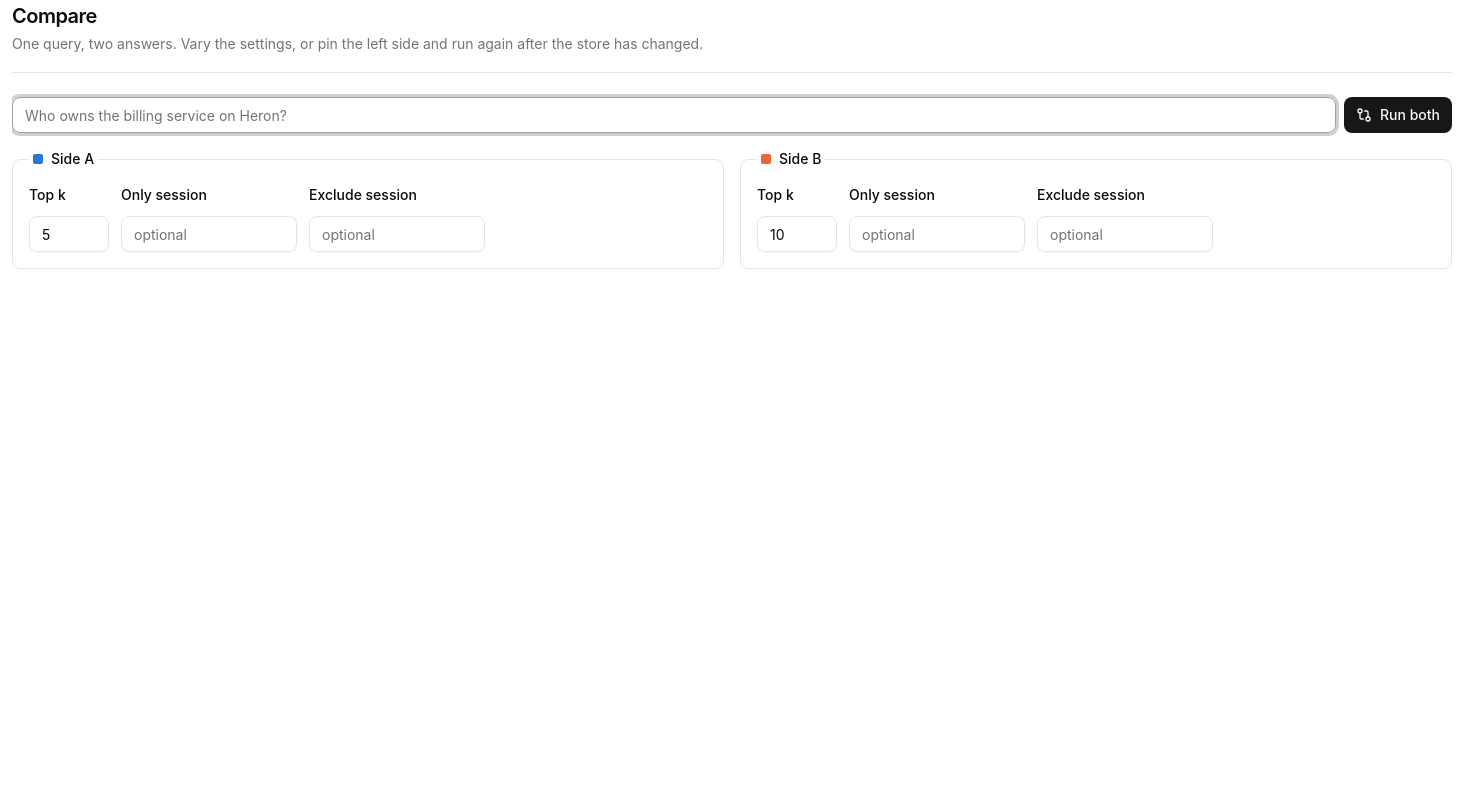
Scenario: ComparePage › runs the query on both sides and diffs the evidence sets
Type "who owns what?" into the field named "Query" at (674, 115), box [12,97,1336,133]
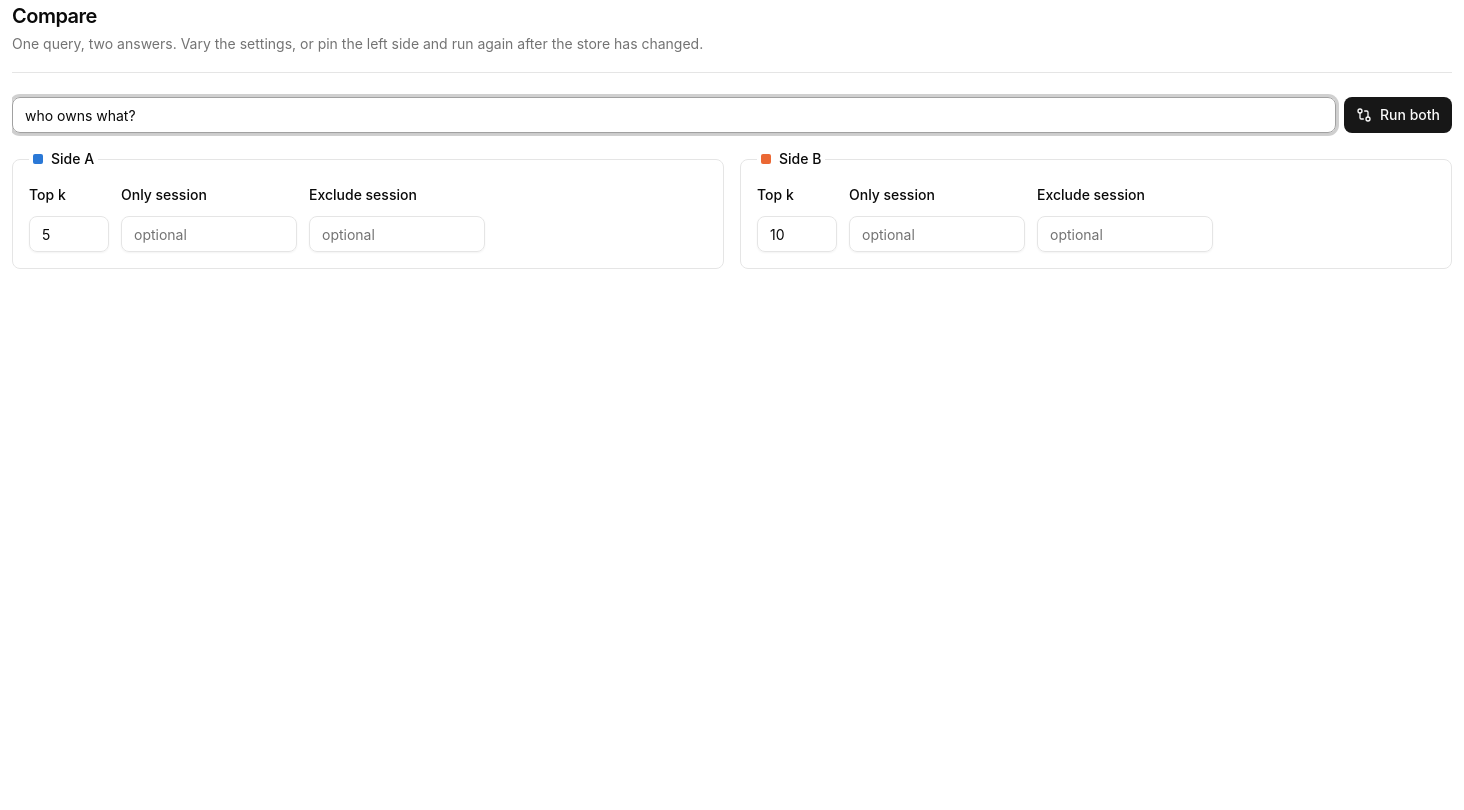
Click the button "Run both" at (1398, 115), box [1344,97,1452,133]
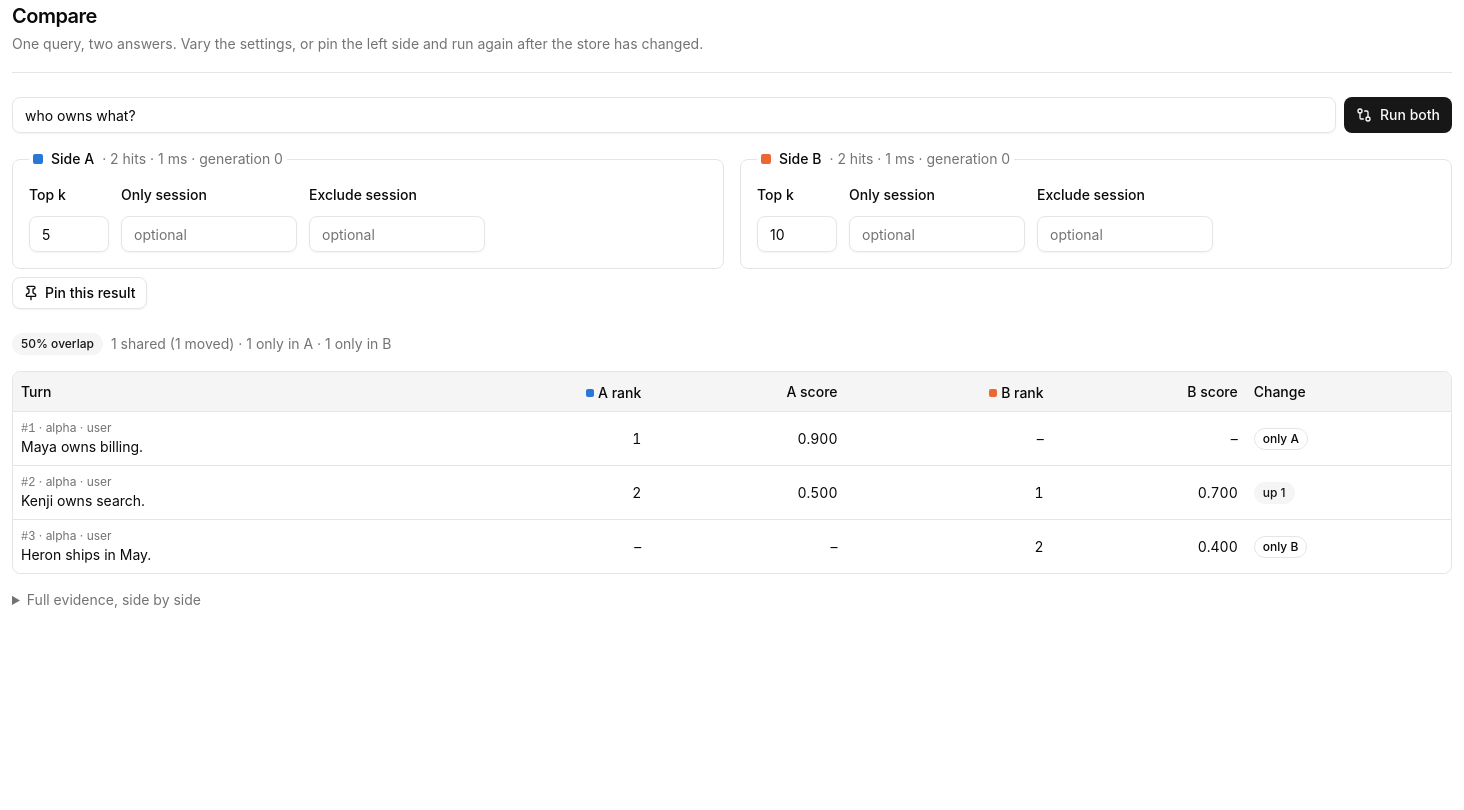
Expected: the text "only A" is shown, [1254,428,1308,450]
Expected: the text "only B" is shown, [1254,536,1307,558]
Expected: the text "up 1" is shown, [1254,482,1294,504]
